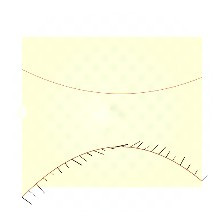hemorrhage_spot: (62, 83, 148, 152)
